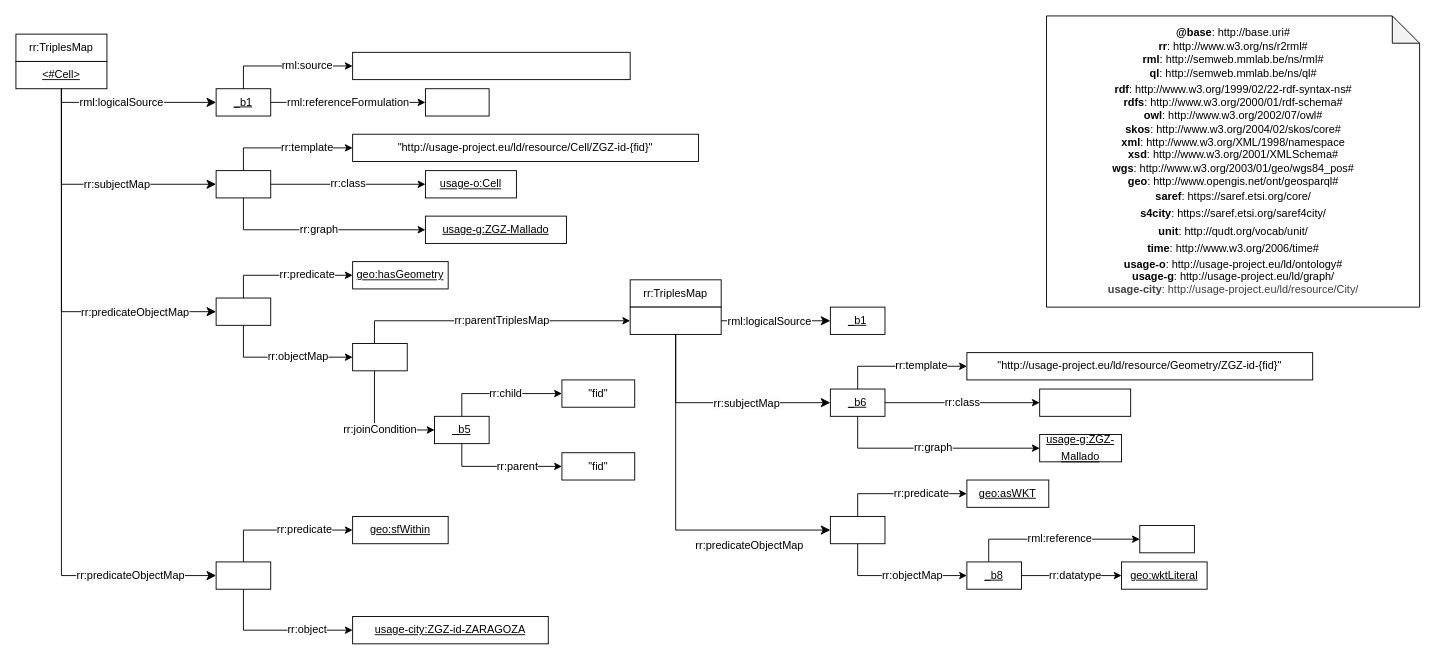
Some shapes in this 1436 by 660 pixel diagram are drawn without their labels. The centre of each missing label's shape, as x and y in pixels:
"./data/ZGZ/Mallado/refined/Mallado2024.csv": (491,65)
"geometry": (1166,539)
<#Geometry>: (675,320)
_b2: (243,184)
_b3: (243,311)
_b4: (379,357)
_b7: (857,530)
_b9: (243,575)
geo:Geometry: (1085,402)
ql:CSV: (457,102)
